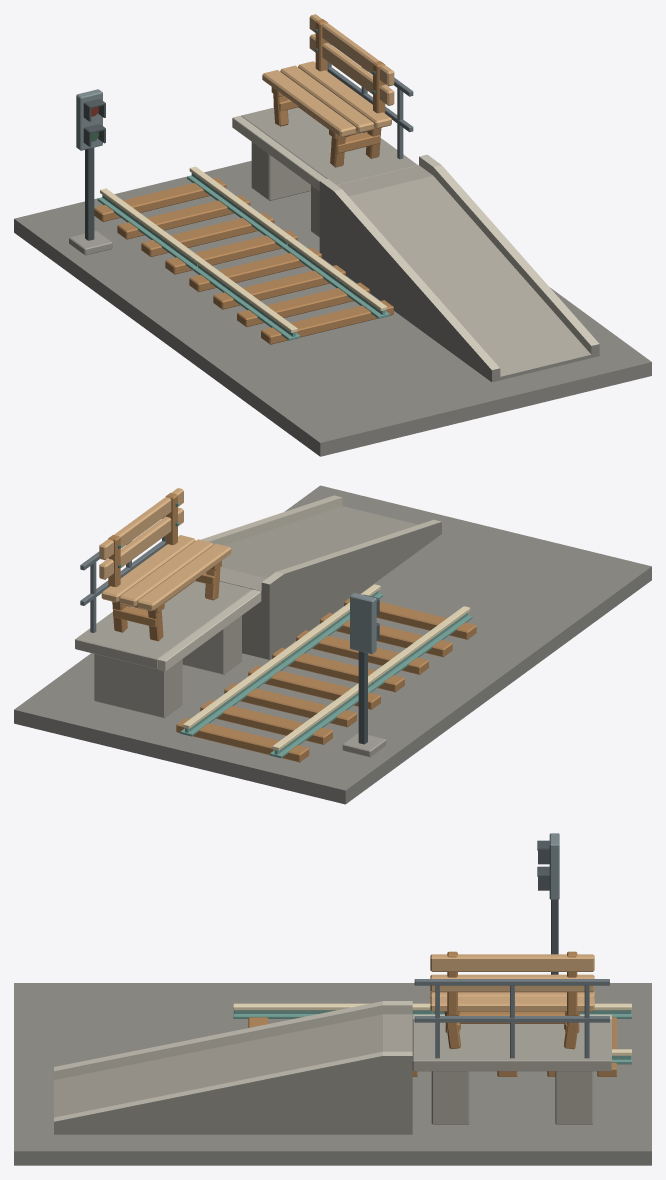
3 renders of one model, top to bottom at view 1: azimuth 30°, elevation 25°; view 2: azimuth 150°, elevation 25°; view 3: azimuth 270°, elevation 25°, orthographic. The views are drawn at different scales.
Parts seen in each view (by area): view 1: SceneOnly__GroundedStationPad, ApproachRamp__ContinuousSlopedRampWithIntegralKerbs, SouthTrack__railway-straight-track-01, Bench__harbor-bench-01, NorthTrack__railway-straight-track-01, Platform__Main platform slab, Platform__Recessed platform pier.001, Platform__Track edge coping, Signal__Signal head back shell, Signal__Fixed signal mast, Signal__Grounded signal plinth; view 2: SceneOnly__GroundedStationPad, ApproachRamp__ContinuousSlopedRampWithIntegralKerbs, Bench__harbor-bench-01, NorthTrack__railway-straight-track-01, SouthTrack__railway-straight-track-01, Platform__Main platform slab, Platform__Recessed platform pier.001, Platform__Recessed platform pier, Platform__Track edge coping, Signal__Signal head back shell, Signal__Fixed signal mast, Signal__Grounded signal plinth (+1 smaller); view 3: SceneOnly__GroundedStationPad, ApproachRamp__ContinuousSlopedRampWithIntegralKerbs, Bench__harbor-bench-01, Platform__Main platform slab, Platform__Recessed platform pier, Platform__Recessed platform pier.001, SouthTrack__railway-straight-track-01, NorthTrack__railway-straight-track-01, Platform__Rear railing rail.001, Platform__Rear railing rail, Signal__Signal head back shell.
Boxes of the visible parts, x1,y1,x2,y2 form: SceneOnly__GroundedStationPad: (14,161,651,456); ApproachRamp__ContinuousSlopedRampWithIntegralKerbs: (319,154,599,382); SouthTrack__railway-straight-track-01: (189,236,393,344); Bench__harbor-bench-01: (262,14,394,167); NorthTrack__railway-straight-track-01: (94,166,297,274); Platform__Main platform slab: (241,107,417,184); Platform__Recessed platform pier.001: (251,142,310,200); Platform__Track edge coping: (232,116,325,190); Signal__Signal head back shell: (76,89,102,150); Signal__Fixed signal mast: (85,147,94,240); Signal__Grounded signal plinth: (69,231,112,255); SceneOnly__GroundedStationPad: (14,485,651,804); ApproachRamp__ContinuousSlopedRampWithIntegralKerbs: (200,495,441,659); Bench__harbor-bench-01: (99,488,231,641); NorthTrack__railway-straight-track-01: (176,654,380,762); SouthTrack__railway-straight-track-01: (272,584,476,692); Platform__Main platform slab: (75,581,252,668); Platform__Recessed platform pier.001: (94,654,182,718); Platform__Recessed platform pier: (182,615,241,674); Platform__Track edge coping: (157,589,261,671); Signal__Signal head back shell: (350,593,376,654); Signal__Fixed signal mast: (358,651,367,744); Signal__Grounded signal plinth: (342,733,386,757); SceneOnly__GroundedStationPad: (14,983,651,1165); ApproachRamp__ContinuousSlopedRampWithIntegralKerbs: (54,1001,412,1134); Bench__harbor-bench-01: (430,951,594,1049); Platform__Main platform slab: (412,1019,611,1071); Platform__Recessed platform pier: (431,1071,469,1124); Platform__Recessed platform pier.001: (555,1071,593,1124); SouthTrack__railway-straight-track-01: (233,1003,432,1076); NorthTrack__railway-straight-track-01: (432,1003,631,1076); Platform__Rear railing rail.001: (414,979,609,985); Platform__Rear railing rail: (414,1016,609,1022); Signal__Signal head back shell: (549,833,559,899).
Bounding box in the file's own units: 4 × 2 × 6.4.
